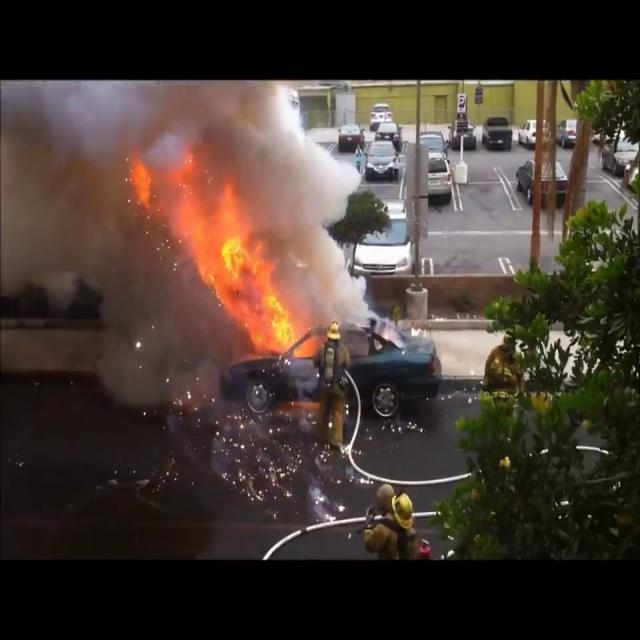Fire: (166, 152, 295, 354)
Smoke: (1, 81, 377, 354)
